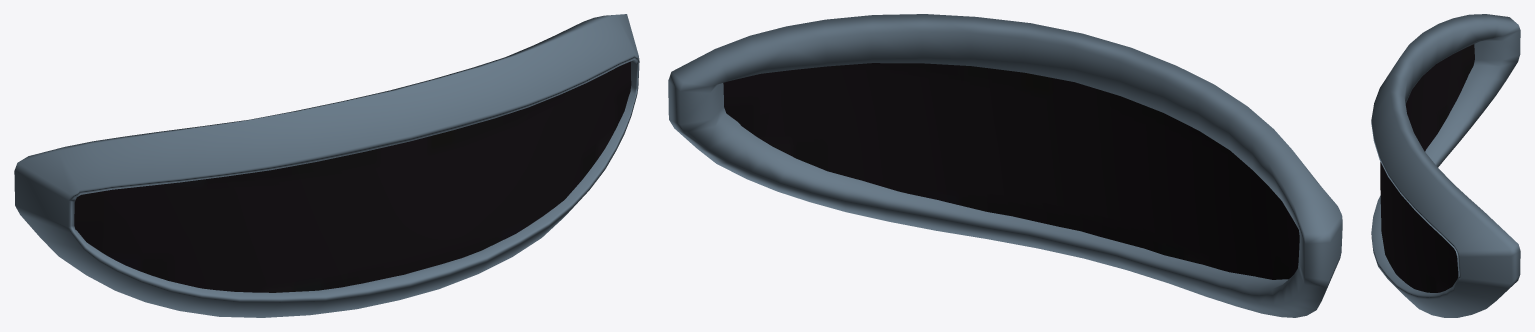
File: AccessoryGlassCyber2.glb
3 views of the same model, side by side, from view 1: azimuth 30°, elevation 25°; view 2: azimuth 150°, elevation 25°; view 3: azimuth 270°, elevation 25° (orthographic). The views are drawn at different scales.
Visible parts, largest first — view 1: Accessory__mAccessory; view 2: Accessory__mAccessory; view 3: Accessory__mAccessory.
Boxes of the visible parts, <box> form: Accessory__mAccessory: <box>14,14,639,317</box>; Accessory__mAccessory: <box>668,14,1342,317</box>; Accessory__mAccessory: <box>1371,14,1520,317</box>.
Bounding box in the file's own units: 6.63 × 2.16 × 1.79.
Materials: 1 (1 with a texture image).
